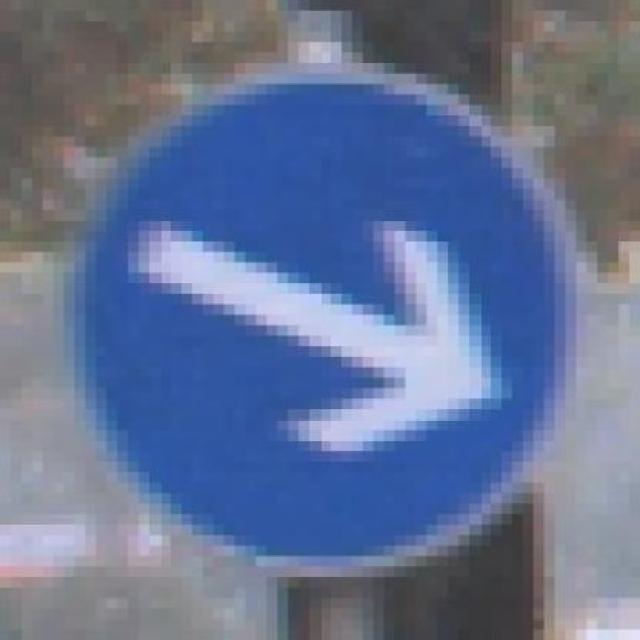Keep-Right: (53, 74, 587, 588)
